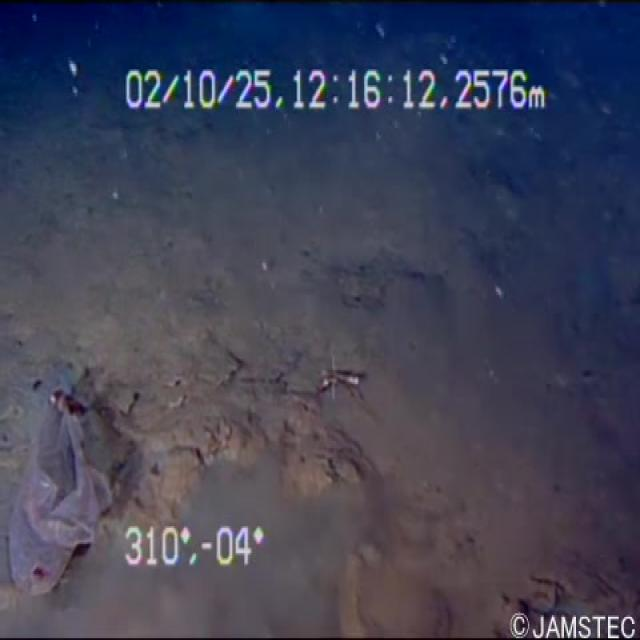plastic: (0, 353, 121, 590)
